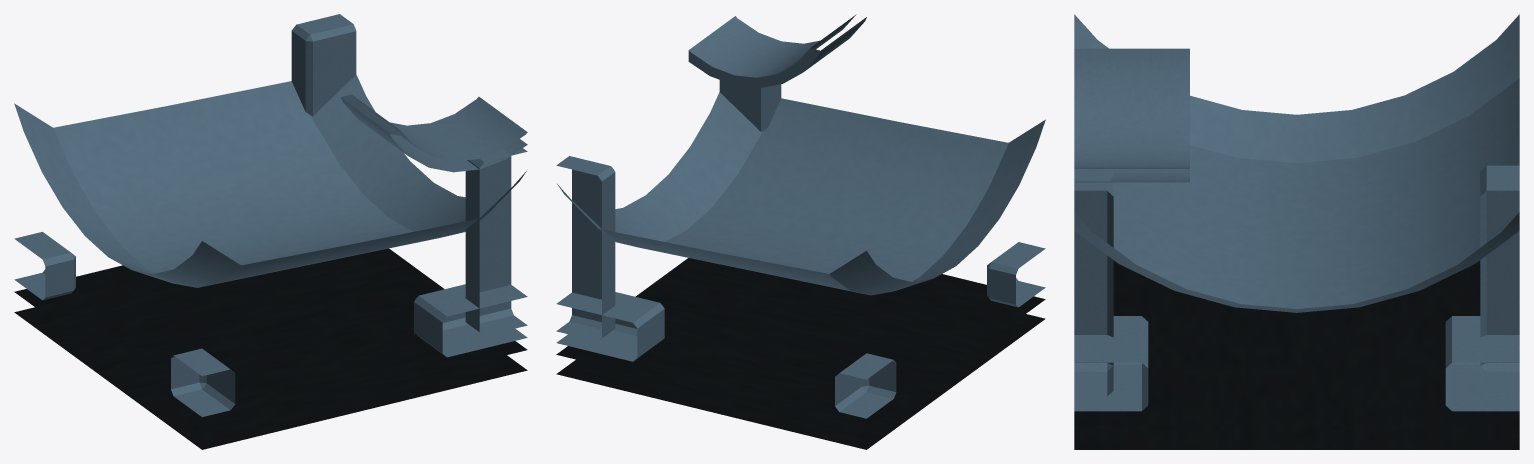
Rendered from cell_12.obj.
3 renders of one model, left to right at view 1: azimuth 30°, elevation 25°; view 2: azimuth 150°, elevation 25°; view 3: azimuth 270°, elevation 25°, orthographic. The views are drawn at different scales.
Visible parts, largest first — view 1: cell_12; view 2: cell_12; view 3: cell_12.
Boxes of the visible parts, x1=… form: cell_12: x1=14, y1=14, x2=527, y2=449; cell_12: x1=556, y1=14, x2=1045, y2=449; cell_12: x1=1074, y1=14, x2=1519, y2=449.
Size of the model in its own units: 1 by 0.796 by 1.
